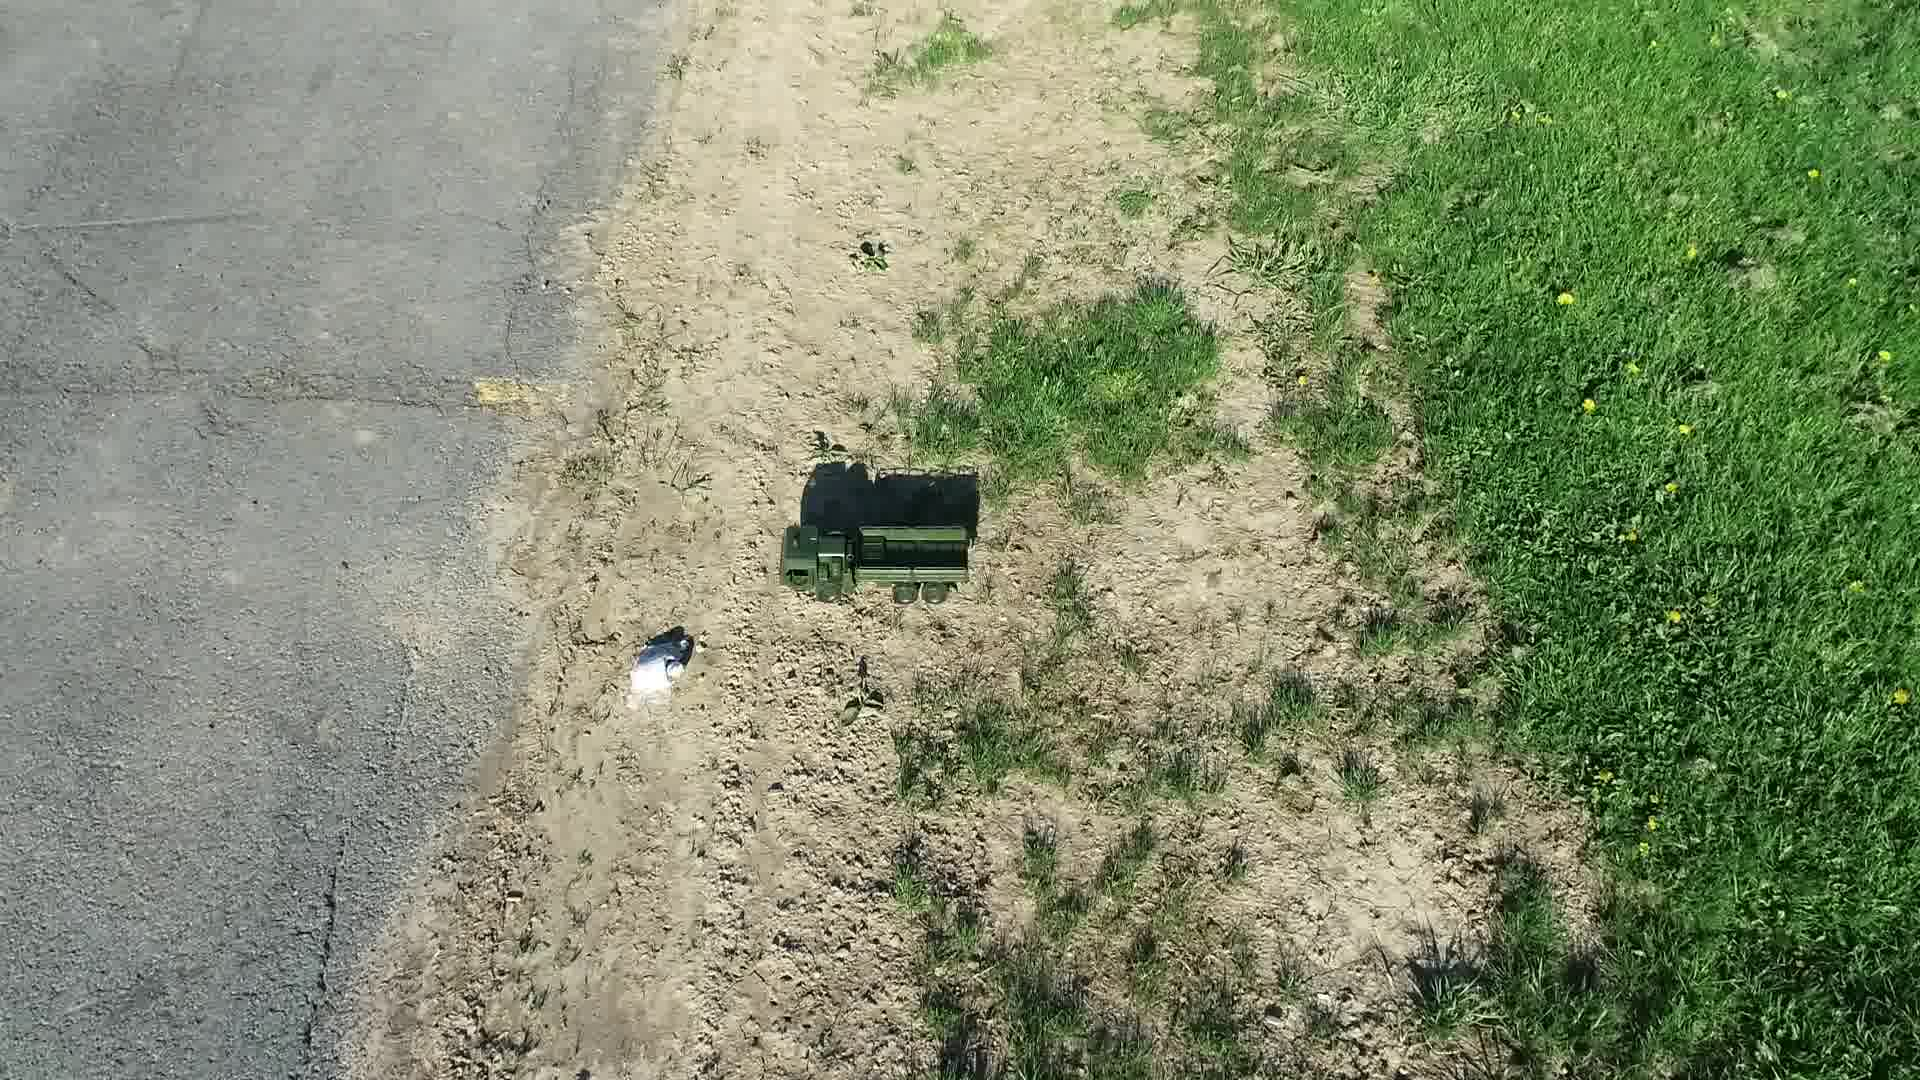transporter9: (770, 516, 986, 609)
